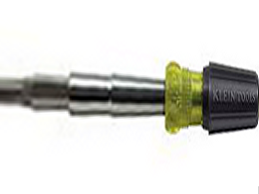screwdriver: (1, 52, 259, 146)
